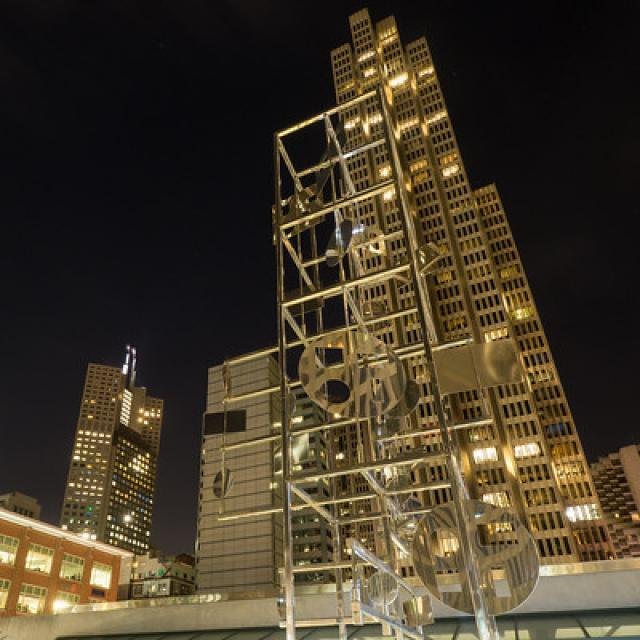Normal_building: (260, 6, 622, 637), (68, 358, 167, 566)
